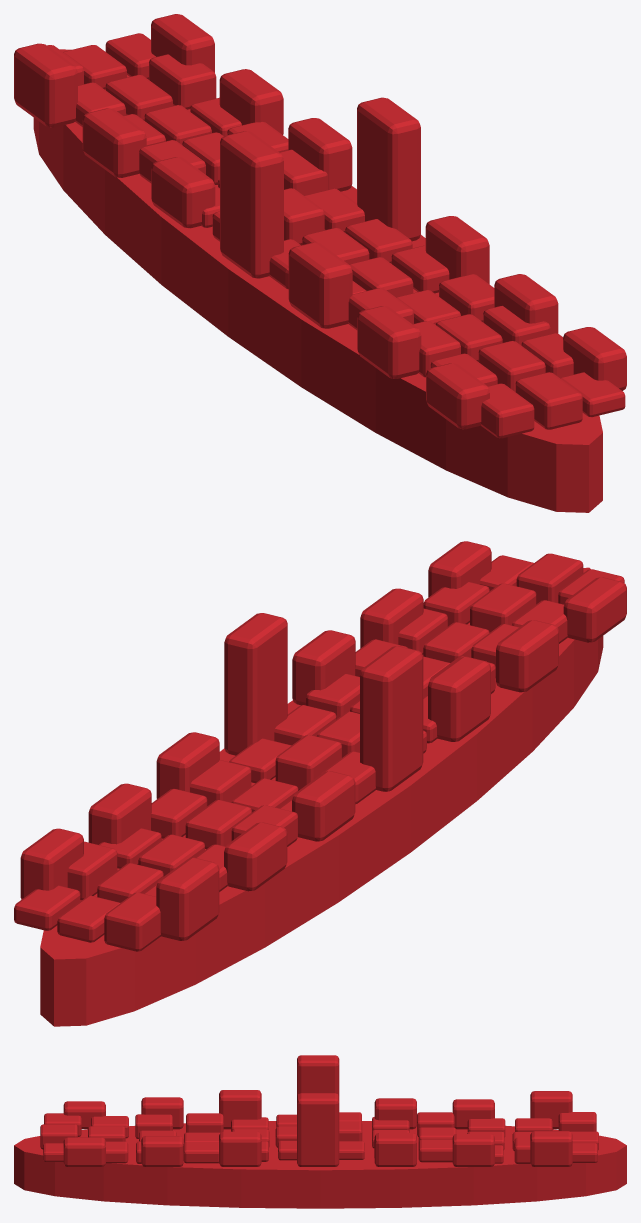
Rendered from road.fbx.
The picture shows the model from 3 angles, top to bottom: view 1: azimuth 30°, elevation 25°; view 2: azimuth 150°, elevation 25°; view 3: azimuth 270°, elevation 25°; orthographic projection. The views are drawn at different scales.
Parts seen in each view (by area): view 1: Road_Footing, Road_Verge_-1_3, Road_Verge_1_3, Road_Verge_-1_2, Road_Verge_-1_6, Road_Verge_-1_1, Road_Verge_-1_4, Road_Verge_-1_5, Road_Verge_1_2, Road_Verge_-1_0, Road_Verge_1_4, Road_Verge_1_5 (+33 smaller); view 2: Road_Footing, Road_Verge_-1_3, Road_Verge_1_3, Road_Verge_-1_2, Road_Verge_-1_6, Road_Verge_-1_1, Road_Verge_-1_4, Road_Verge_-1_5, Road_Verge_1_2, Road_Verge_-1_0, Road_Verge_1_5, Road_Verge_1_6 (+31 smaller); view 3: Road_Footing, Road_Verge_1_3, Road_Verge_-1_3, Road_Verge_1_6, Road_Verge_1_2, Road_Verge_1_4, Road_Verge_1_5, Road_Verge_-1_2, Road_Verge_1_1, Road_Verge_1_0, Road_Verge_-1_6, Road_Verge_-1_4 (+31 smaller).
Boxes of the visible parts, left/top/right/bottom form: Road_Footing: left=33, top=49, right=602, bottom=512; Road_Verge_-1_3: left=220, top=131, right=283, bottom=278; Road_Verge_1_3: left=357, top=97, right=420, bottom=241; Road_Verge_-1_2: left=288, top=242, right=352, bottom=328; Road_Verge_-1_6: left=14, top=43, right=77, bottom=127; Road_Verge_-1_1: left=357, top=306, right=421, bottom=378; Road_Verge_-1_4: left=151, top=157, right=215, bottom=228; Road_Verge_-1_5: left=82, top=108, right=146, bottom=177; Road_Verge_1_2: left=425, top=216, right=489, bottom=284; Road_Verge_-1_0: left=426, top=363, right=489, bottom=429; Road_Verge_1_4: left=288, top=118, right=352, bottom=191; Road_Verge_1_5: left=219, top=69, right=283, bottom=134; Road_Footing: left=40, top=567, right=603, bottom=1026; Road_Verge_-1_3: left=360, top=646, right=423, bottom=791; Road_Verge_1_3: left=224, top=613, right=287, bottom=755; Road_Verge_-1_2: left=428, top=656, right=490, bottom=741; Road_Verge_-1_6: left=156, top=857, right=219, bottom=940; Road_Verge_-1_1: left=496, top=620, right=558, bottom=692; Road_Verge_-1_4: left=292, top=771, right=355, bottom=841; Road_Verge_-1_5: left=224, top=822, right=287, bottom=891; Road_Verge_1_2: left=292, top=630, right=355, bottom=705; Road_Verge_-1_0: left=563, top=577, right=626, bottom=642; Road_Verge_1_5: left=88, top=783, right=151, bottom=844; Road_Verge_1_6: left=20, top=828, right=83, bottom=899; Road_Footing: left=14, top=1121, right=626, bottom=1208; Road_Verge_1_3: left=297, top=1093, right=339, bottom=1166; Road_Verge_-1_3: left=297, top=1055, right=339, bottom=1096; Road_Verge_1_6: left=530, top=1131, right=572, bottom=1166; Road_Verge_1_2: left=219, top=1131, right=261, bottom=1166; Road_Verge_1_4: left=374, top=1133, right=416, bottom=1166; Road_Verge_1_5: left=452, top=1134, right=494, bottom=1166; Road_Verge_-1_2: left=219, top=1090, right=261, bottom=1129; Road_Verge_1_1: left=141, top=1136, right=183, bottom=1166; Road_Verge_1_0: left=63, top=1137, right=105, bottom=1166; Road_Verge_-1_6: left=530, top=1091, right=572, bottom=1129; Road_Verge_-1_4: left=374, top=1098, right=416, bottom=1129.
Size of the model in its own units: 0.005 by 0.005 by 0.026.
